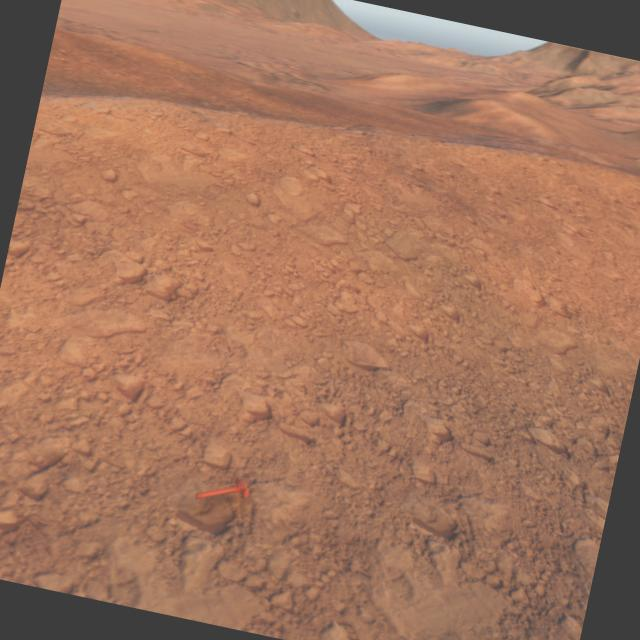newhammer: (194, 470, 251, 510)
